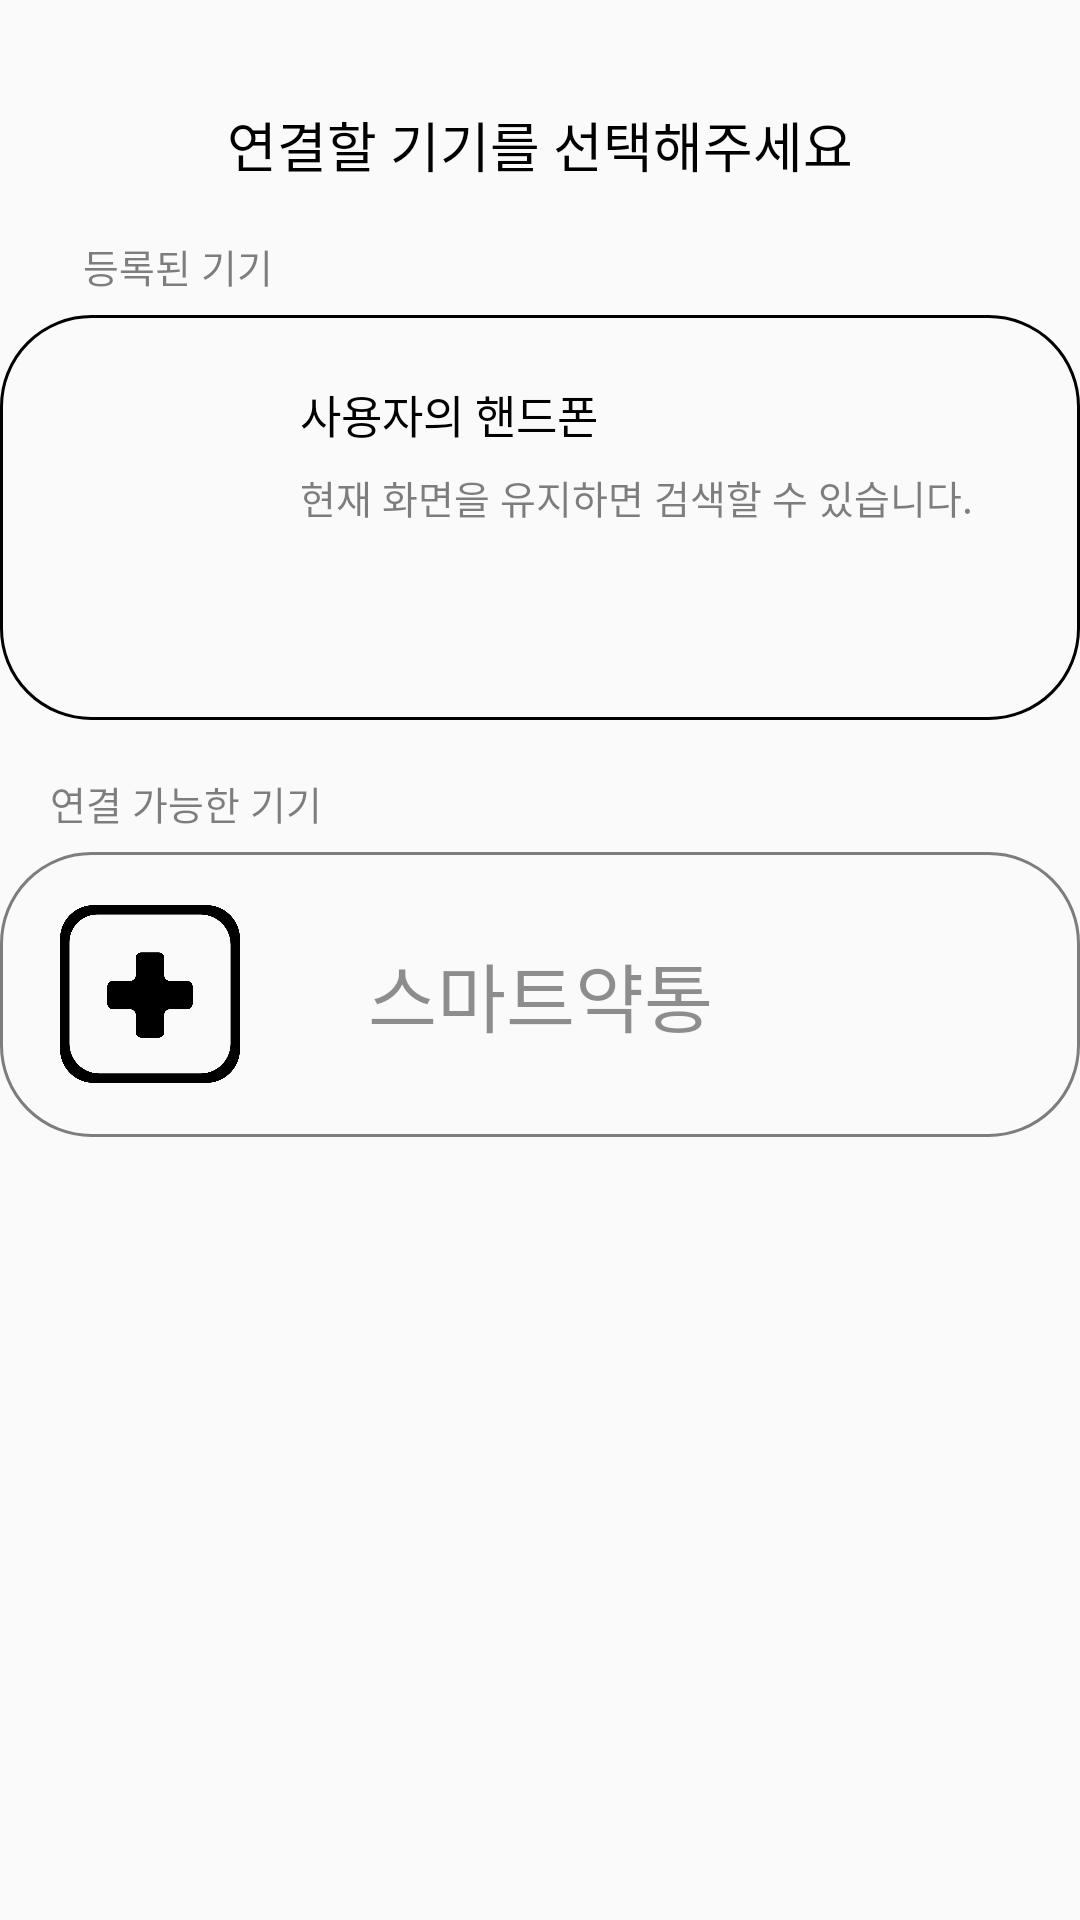

Locate icon controls on the screen. Image size 1080w x 1920h, boxes as (x1, y1, x2, y2).
phillbox: (60, 905, 240, 1083)
